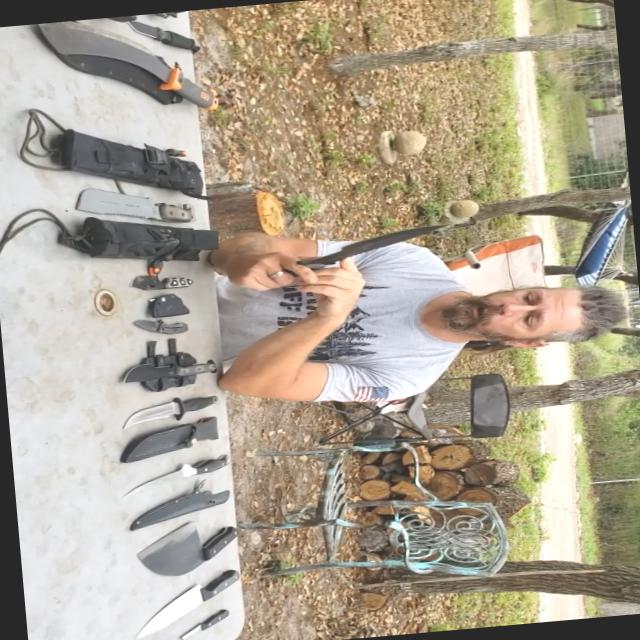knife: (34, 7, 237, 124), (283, 217, 456, 284), (54, 176, 208, 247), (121, 511, 252, 588), (106, 444, 250, 514), (116, 568, 256, 639), (111, 382, 242, 434), (106, 350, 242, 396), (114, 8, 227, 56), (120, 258, 207, 304), (171, 598, 254, 639), (114, 313, 202, 344)
